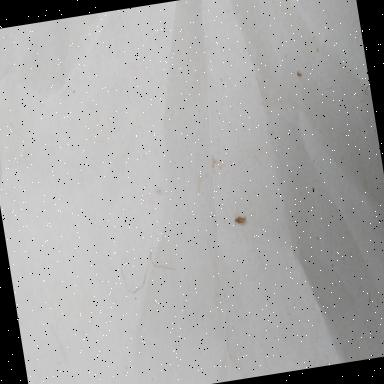pbw: (234, 213, 248, 226)
